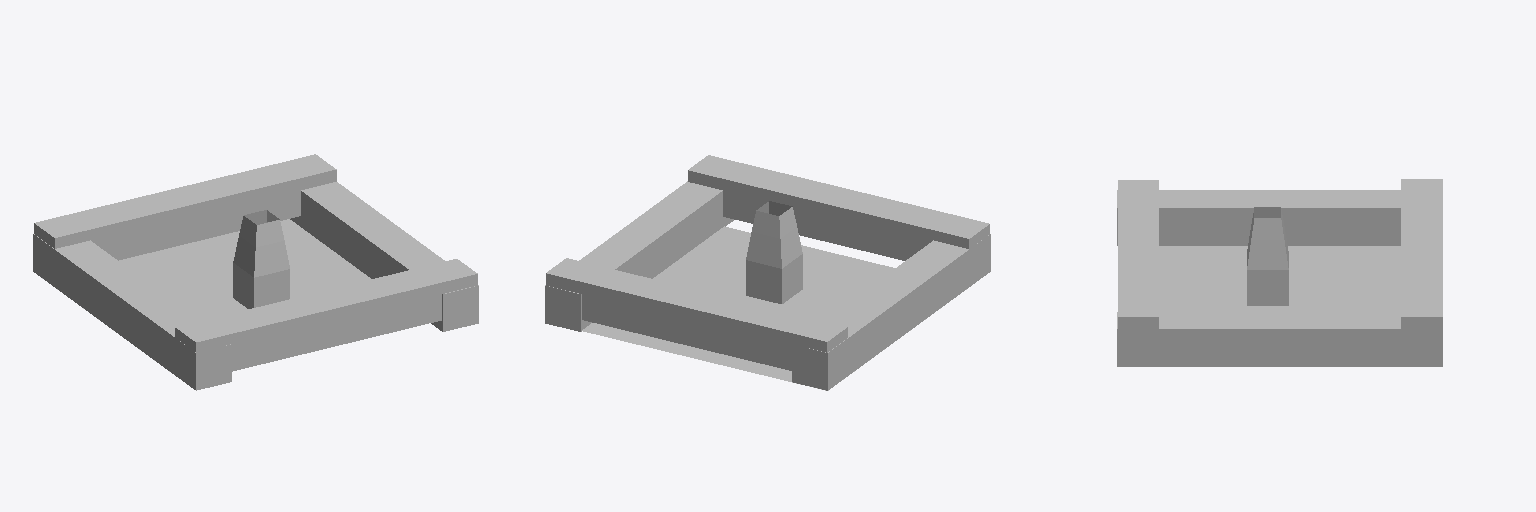
File: blockEnd2.obj
3 views of the same model, side by side, from view 1: azimuth 30°, elevation 25°; view 2: azimuth 150°, elevation 25°; view 3: azimuth 270°, elevation 25° (orthographic).
Parts seen in each view (by area): view 1: Cube_Cube.001_Cube_Cube.001; view 2: Cube_Cube.001_Cube_Cube.001; view 3: Cube_Cube.001_Cube_Cube.001.
Boxes of the visible parts, x1,y1,x2,y2 form: Cube_Cube.001_Cube_Cube.001: [33, 154, 478, 390]; Cube_Cube.001_Cube_Cube.001: [545, 155, 990, 390]; Cube_Cube.001_Cube_Cube.001: [1117, 179, 1442, 366].
Bounding box in the file's own units: 10 × 2.91 × 10.01.